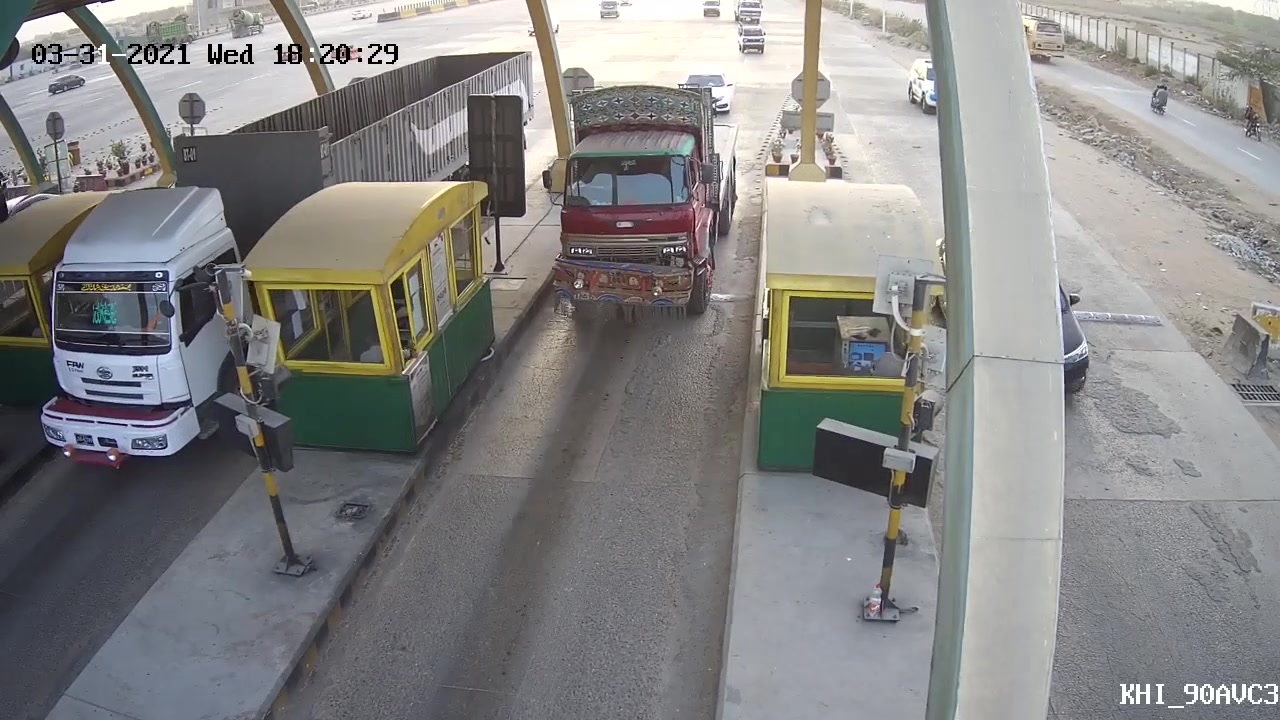F6: (530, 90, 741, 342)
